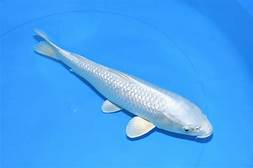white: (32, 28, 216, 141)
